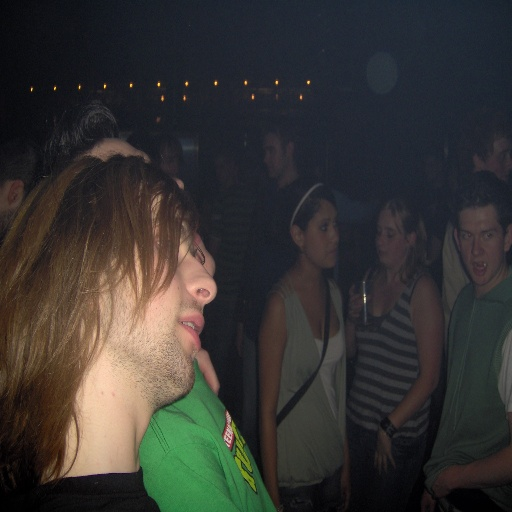hand: (192, 346, 220, 398), (347, 283, 372, 325), (432, 464, 459, 501), (372, 427, 395, 467), (339, 465, 350, 511), (419, 487, 436, 511), (232, 331, 244, 360)
